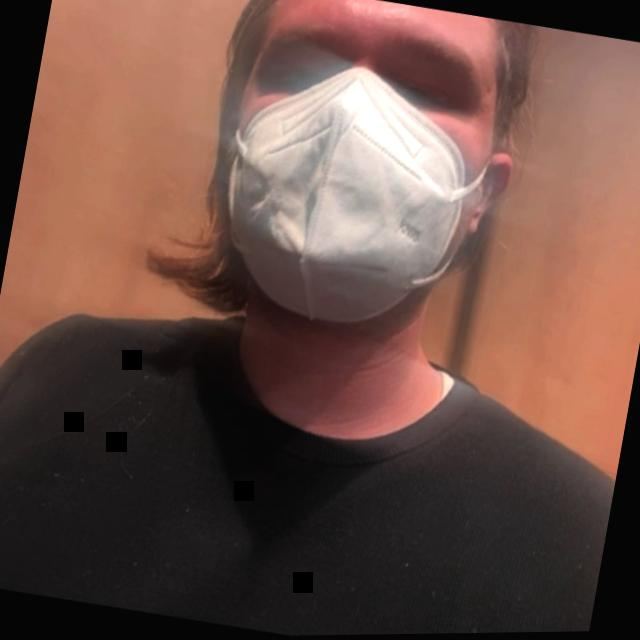Mask: (114, 0, 554, 415)
